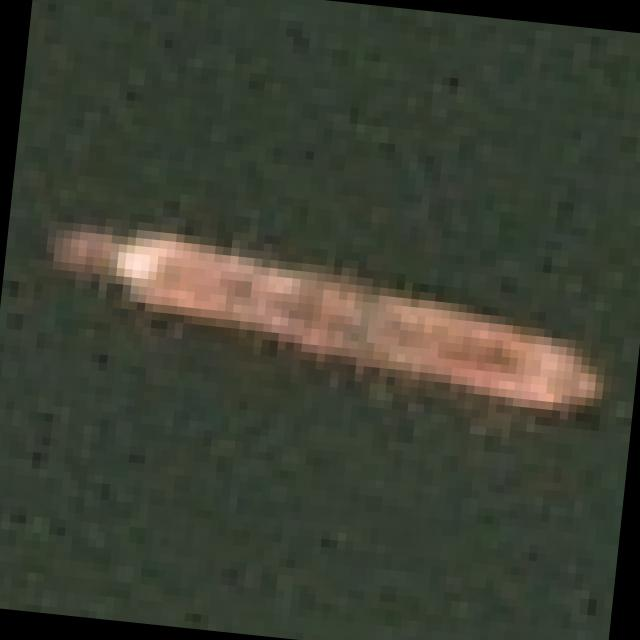ship: (43, 191, 632, 427)
